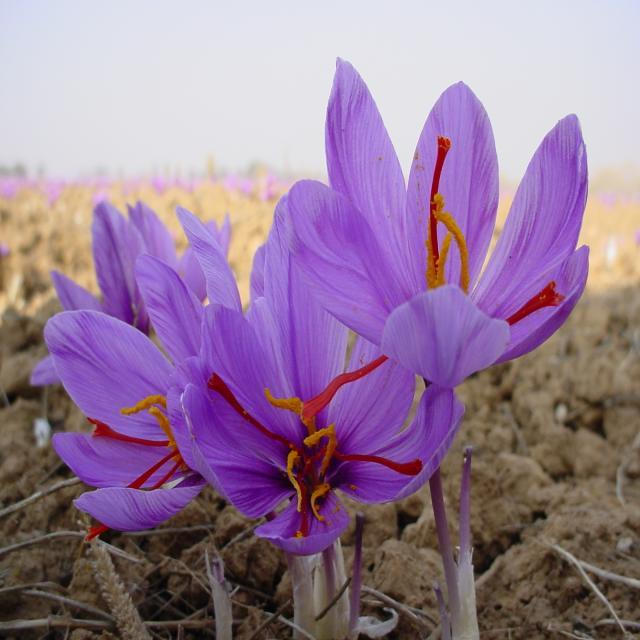Flower: (318, 55, 598, 352), (186, 249, 444, 544), (37, 210, 256, 537)
stigma: (305, 354, 393, 416), (206, 370, 272, 439), (426, 132, 451, 290), (332, 448, 424, 483), (509, 278, 566, 326), (89, 419, 167, 449)
